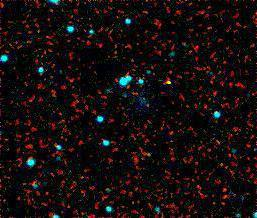star: (155, 65, 185, 95)
